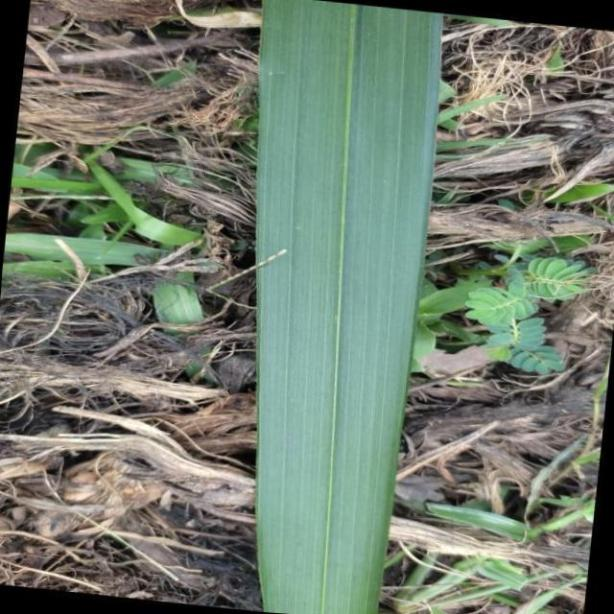Healthy: (254, 0, 442, 614)
